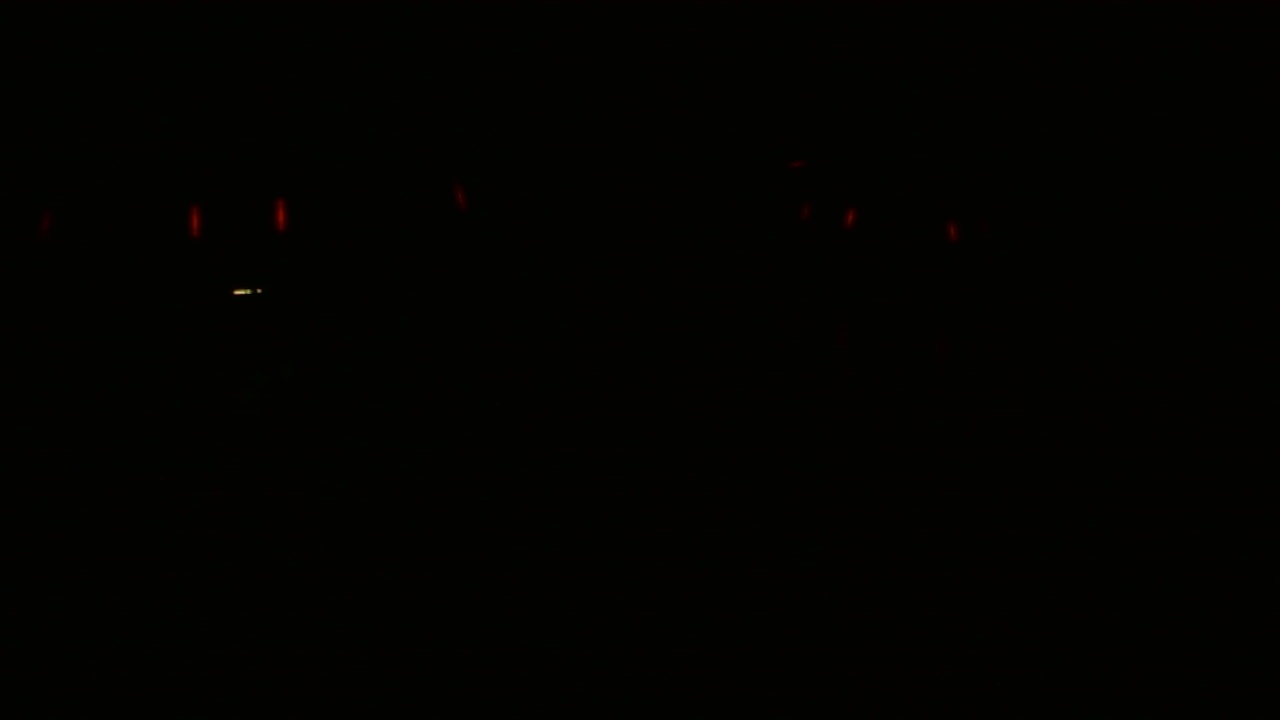pair1: (180, 194, 296, 247), (798, 203, 859, 228)
